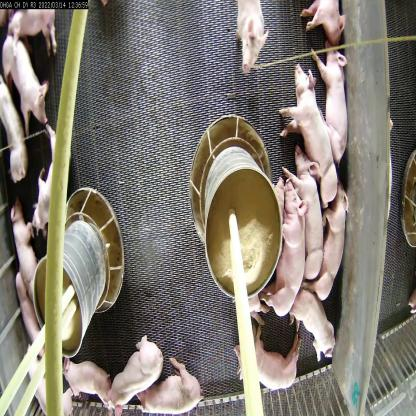Pig: (274, 56, 341, 211), (252, 174, 306, 324), (300, 174, 350, 307), (282, 139, 326, 281), (0, 25, 50, 143), (232, 325, 307, 399), (106, 331, 167, 415), (310, 37, 348, 167), (5, 185, 44, 308), (284, 280, 338, 368), (53, 341, 116, 408), (136, 354, 203, 416), (233, 0, 267, 80), (9, 5, 59, 56), (296, 0, 347, 47)
